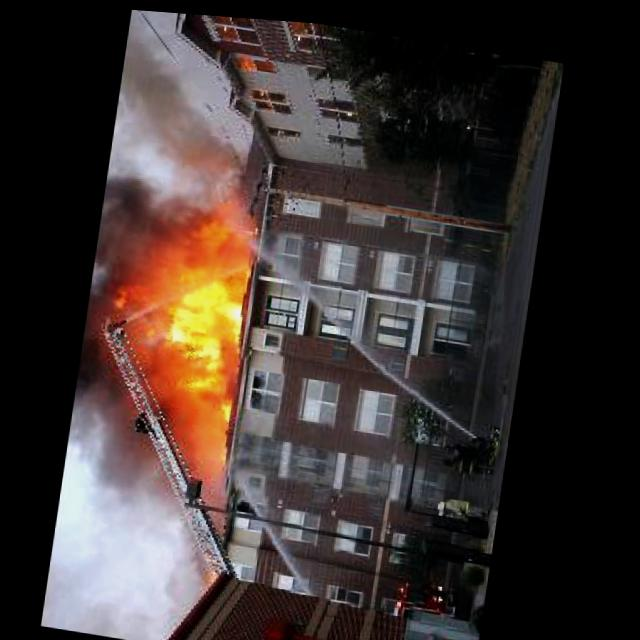no_helmet: (91, 181, 265, 432)
